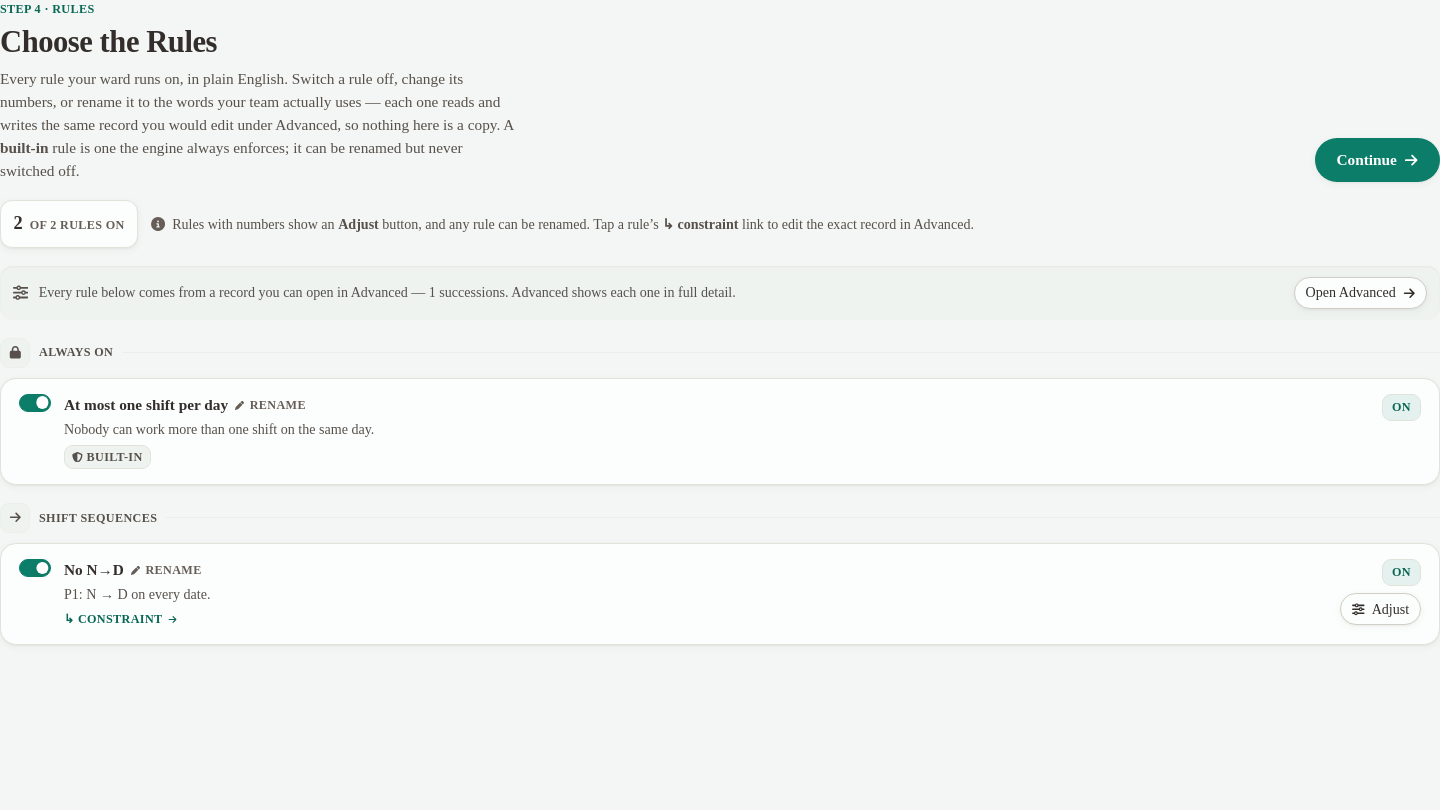
RulesScreen — a hard-weight (±Infinity) Adjust control › renders a hard (-Infinity) weight legibly rather than as a blank box
Click the button with test id "rule-adjust-toggle-successions:s1" at (1381, 610), box [1340,594,1421,626]
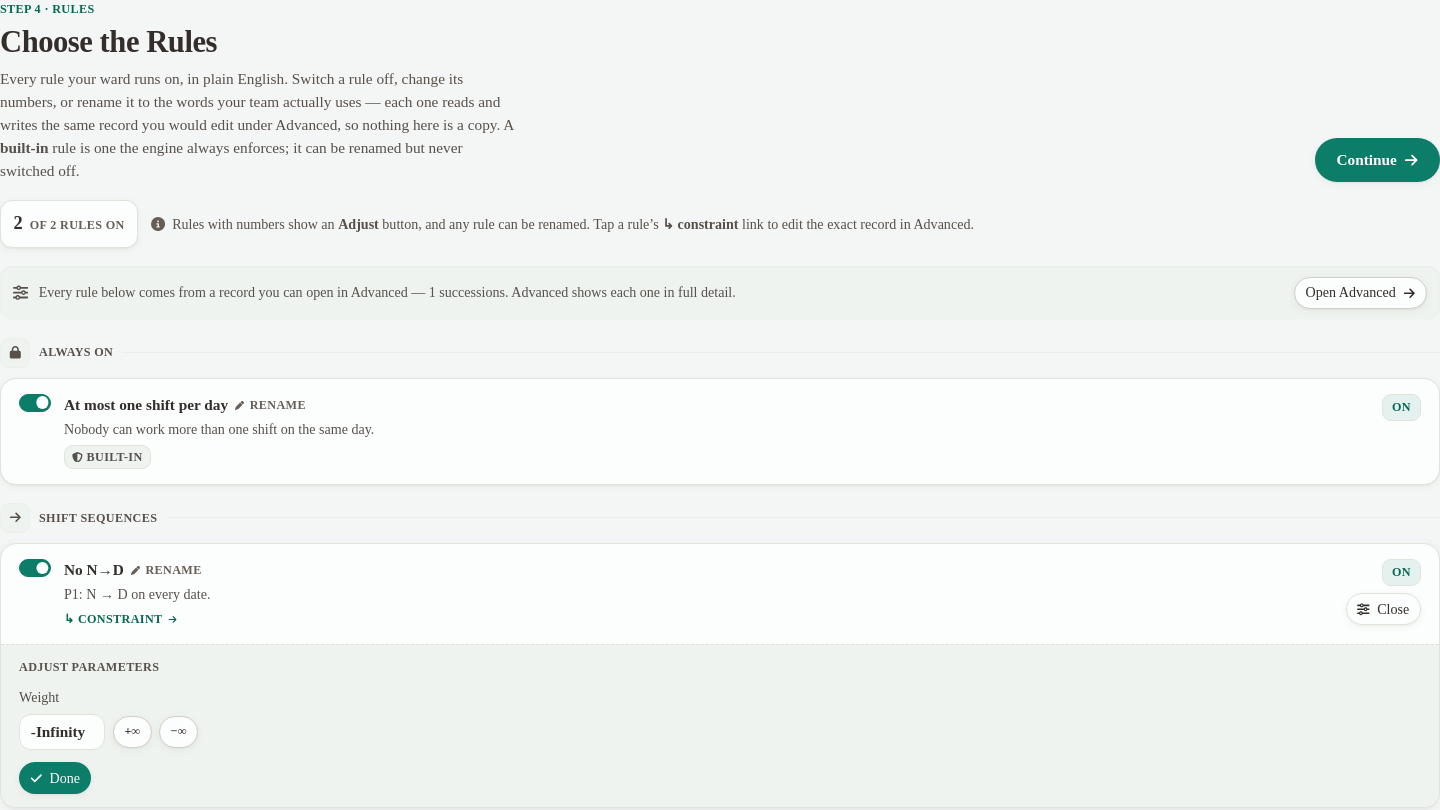
Expected: the field with test id "rule-adjust-input-successions:s1-weight" holds "-Infinity", [19,714,105,750]
Expected: the field with test id "rule-adjust-input-successions:s1-weight" is not empty, [19,714,105,750]
